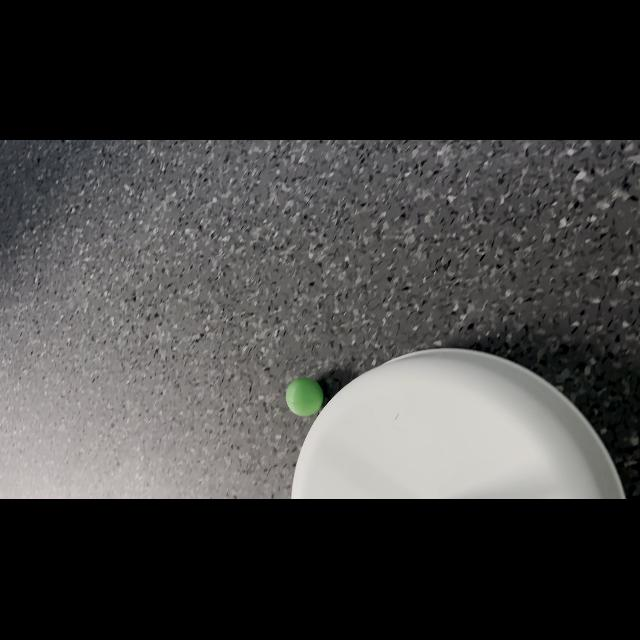objects: (284, 374, 326, 420)
